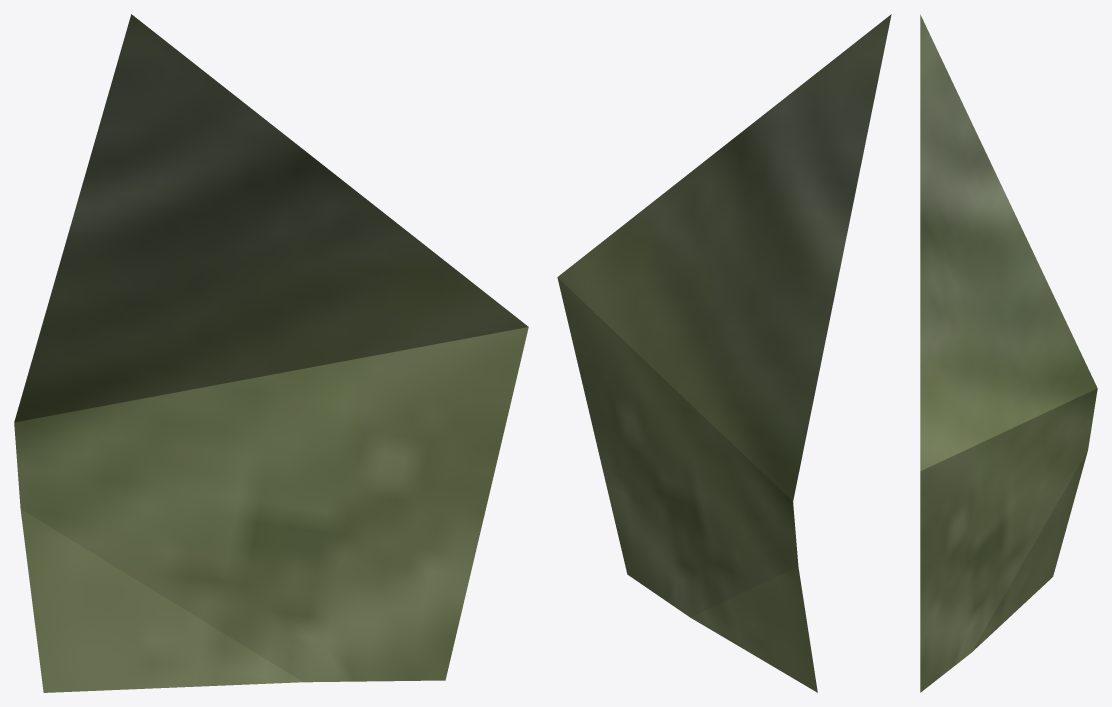
3 views of the same model, side by side, from view 1: azimuth 30°, elevation 25°; view 2: azimuth 150°, elevation 25°; view 3: azimuth 270°, elevation 25° (orthographic). The views are drawn at different scales.
Size of the model in its own units: 2.05 by 3.66 by 1.05.
Materials: 1 (1 with a texture image).
